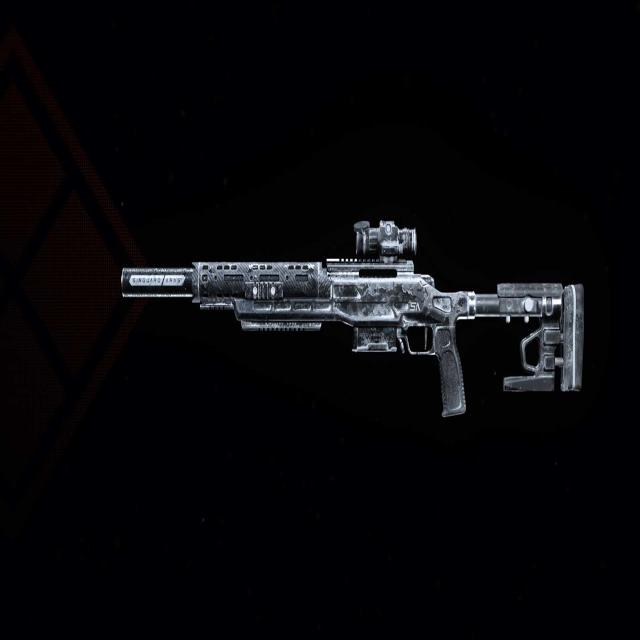Rifle: (121, 221, 586, 420)
